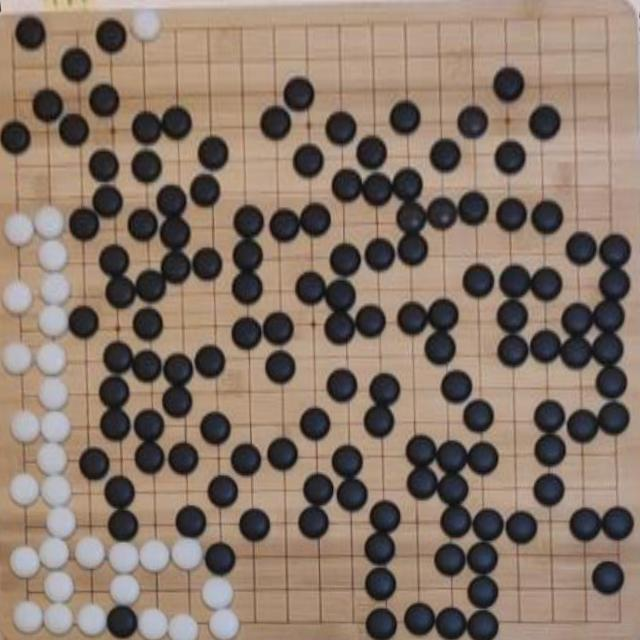blackstone: (530, 200, 564, 235), (493, 66, 526, 102), (238, 508, 272, 542), (566, 409, 600, 443), (462, 263, 496, 297), (292, 144, 326, 178), (592, 297, 626, 331), (533, 473, 566, 508), (595, 366, 628, 401), (597, 401, 630, 436), (529, 105, 562, 140), (204, 542, 237, 576), (194, 344, 227, 378), (533, 400, 566, 434), (135, 270, 168, 304), (560, 334, 593, 368), (530, 267, 563, 301), (329, 244, 362, 278), (592, 560, 625, 594), (499, 264, 532, 298), (429, 138, 462, 172), (361, 172, 394, 206), (598, 266, 631, 300), (88, 83, 121, 117), (570, 508, 602, 543), (602, 507, 634, 542), (434, 543, 467, 576), (207, 475, 240, 508), (107, 509, 140, 542), (441, 370, 474, 403), (105, 605, 138, 638), (325, 111, 358, 144), (598, 234, 631, 267), (283, 77, 316, 110), (95, 19, 128, 52), (424, 330, 456, 364), (326, 368, 358, 402), (397, 232, 429, 266), (496, 298, 528, 332), (496, 197, 528, 231), (458, 191, 490, 225), (592, 332, 624, 366), (331, 168, 363, 202), (566, 232, 598, 266), (61, 47, 93, 81), (364, 532, 397, 564), (365, 567, 397, 600), (336, 478, 368, 511), (267, 438, 299, 471), (468, 575, 500, 608), (364, 405, 396, 438), (230, 443, 262, 476), (302, 473, 334, 506), (473, 509, 505, 542), (534, 433, 566, 466), (175, 506, 208, 538), (200, 412, 232, 445), (497, 334, 530, 366), (530, 330, 562, 363), (467, 441, 499, 474), (324, 311, 356, 344), (406, 468, 439, 500), (437, 474, 470, 506), (265, 351, 297, 384), (332, 445, 364, 478), (162, 385, 194, 418), (365, 608, 398, 640), (404, 603, 436, 636), (232, 271, 264, 304), (364, 238, 396, 271), (133, 409, 165, 442), (160, 251, 192, 284), (58, 113, 90, 146), (426, 197, 458, 230), (92, 185, 124, 218), (190, 173, 222, 206), (495, 140, 527, 173), (356, 136, 388, 169), (260, 106, 292, 139), (88, 149, 120, 182), (131, 111, 163, 144), (160, 216, 192, 249), (161, 106, 193, 139), (198, 136, 230, 169), (156, 184, 188, 217), (389, 101, 422, 133), (15, 16, 47, 49), (79, 447, 110, 481), (33, 88, 64, 122), (298, 508, 330, 540), (505, 512, 537, 544), (168, 443, 200, 475), (467, 542, 499, 574), (441, 505, 473, 537), (300, 408, 332, 440), (134, 441, 166, 473), (369, 500, 401, 532), (231, 317, 263, 349), (463, 400, 495, 432), (263, 312, 295, 344), (100, 408, 132, 440), (104, 476, 136, 508), (295, 272, 327, 304), (435, 607, 467, 639), (436, 440, 468, 472), (269, 209, 301, 241), (192, 248, 224, 280), (325, 278, 357, 310), (68, 208, 100, 240), (132, 150, 164, 182), (98, 244, 130, 276), (396, 200, 428, 232), (392, 168, 424, 200), (457, 106, 489, 138), (355, 305, 386, 338), (133, 306, 164, 339), (300, 203, 331, 236), (562, 302, 593, 335), (1, 121, 31, 155), (397, 302, 428, 334), (369, 373, 401, 404), (105, 276, 136, 308), (132, 350, 163, 382), (103, 341, 134, 373), (68, 306, 99, 338), (232, 239, 264, 270), (234, 205, 265, 237), (128, 208, 158, 241), (467, 609, 498, 640), (99, 376, 130, 407), (406, 436, 437, 466), (428, 298, 458, 329), (163, 354, 194, 384)
whitestone: (138, 539, 172, 573), (8, 472, 41, 507), (37, 377, 70, 412), (37, 304, 70, 338), (36, 441, 69, 475), (8, 545, 41, 579), (74, 535, 107, 569), (171, 536, 204, 570), (202, 576, 235, 610), (108, 541, 141, 575), (42, 570, 75, 604), (108, 574, 142, 607), (9, 409, 41, 444), (40, 474, 73, 507), (138, 607, 171, 640), (35, 342, 67, 376), (39, 537, 71, 571), (76, 602, 108, 636), (208, 608, 242, 640), (39, 410, 72, 442), (45, 506, 77, 539), (44, 602, 76, 635), (1, 342, 32, 376), (2, 280, 33, 314), (13, 600, 44, 634), (39, 273, 71, 305), (37, 239, 69, 271), (130, 9, 162, 41), (4, 212, 35, 245), (34, 205, 65, 238), (168, 613, 199, 640)
